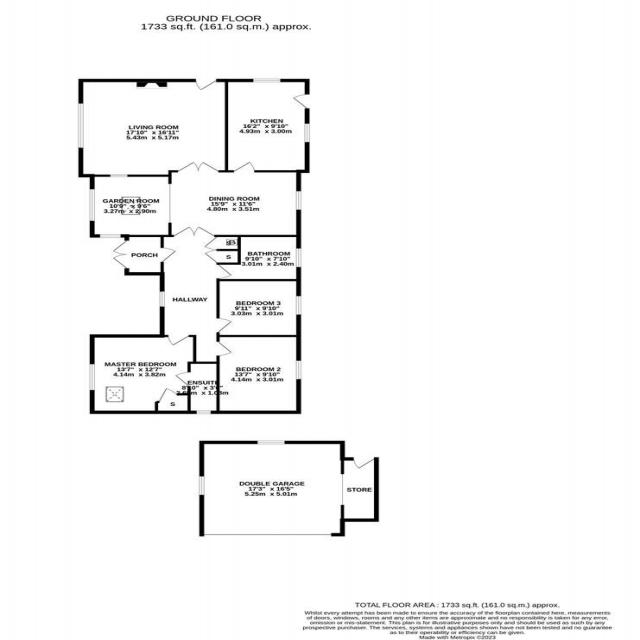DOOR: (216, 341, 234, 357), (292, 93, 310, 109), (232, 161, 255, 173), (174, 371, 191, 387), (216, 317, 233, 333), (160, 247, 177, 263), (216, 264, 234, 279), (195, 79, 217, 91), (167, 335, 190, 346)
DOUBLE DOOR: (177, 161, 219, 173), (112, 240, 129, 269), (173, 226, 215, 237)
ROOM: (78, 78, 228, 178), (168, 161, 302, 237), (89, 334, 196, 414), (224, 79, 310, 173), (216, 335, 302, 414), (216, 279, 301, 337)
WINDOW: (77, 103, 84, 148), (89, 189, 95, 221), (89, 363, 95, 391), (252, 78, 281, 83), (295, 360, 302, 380), (295, 295, 302, 315), (295, 248, 302, 268), (303, 123, 310, 143), (296, 190, 302, 210), (159, 291, 165, 308), (99, 234, 122, 238), (195, 410, 212, 414), (109, 174, 129, 177)
